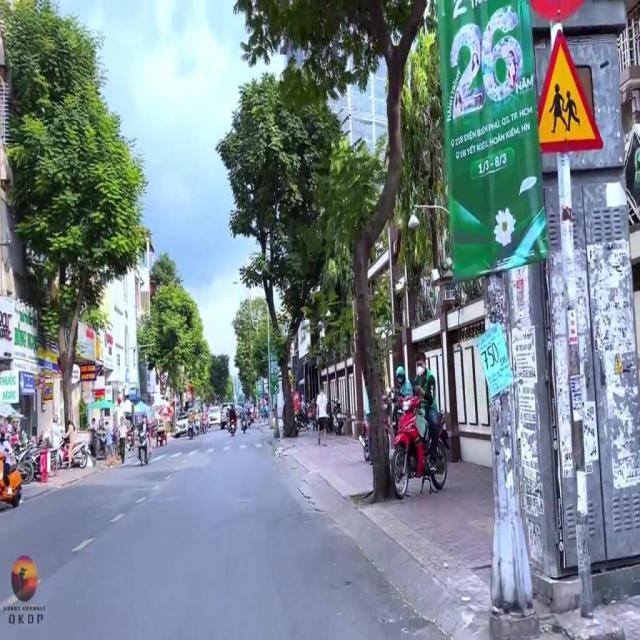chu_y_tre_em: (524, 26, 602, 155)
